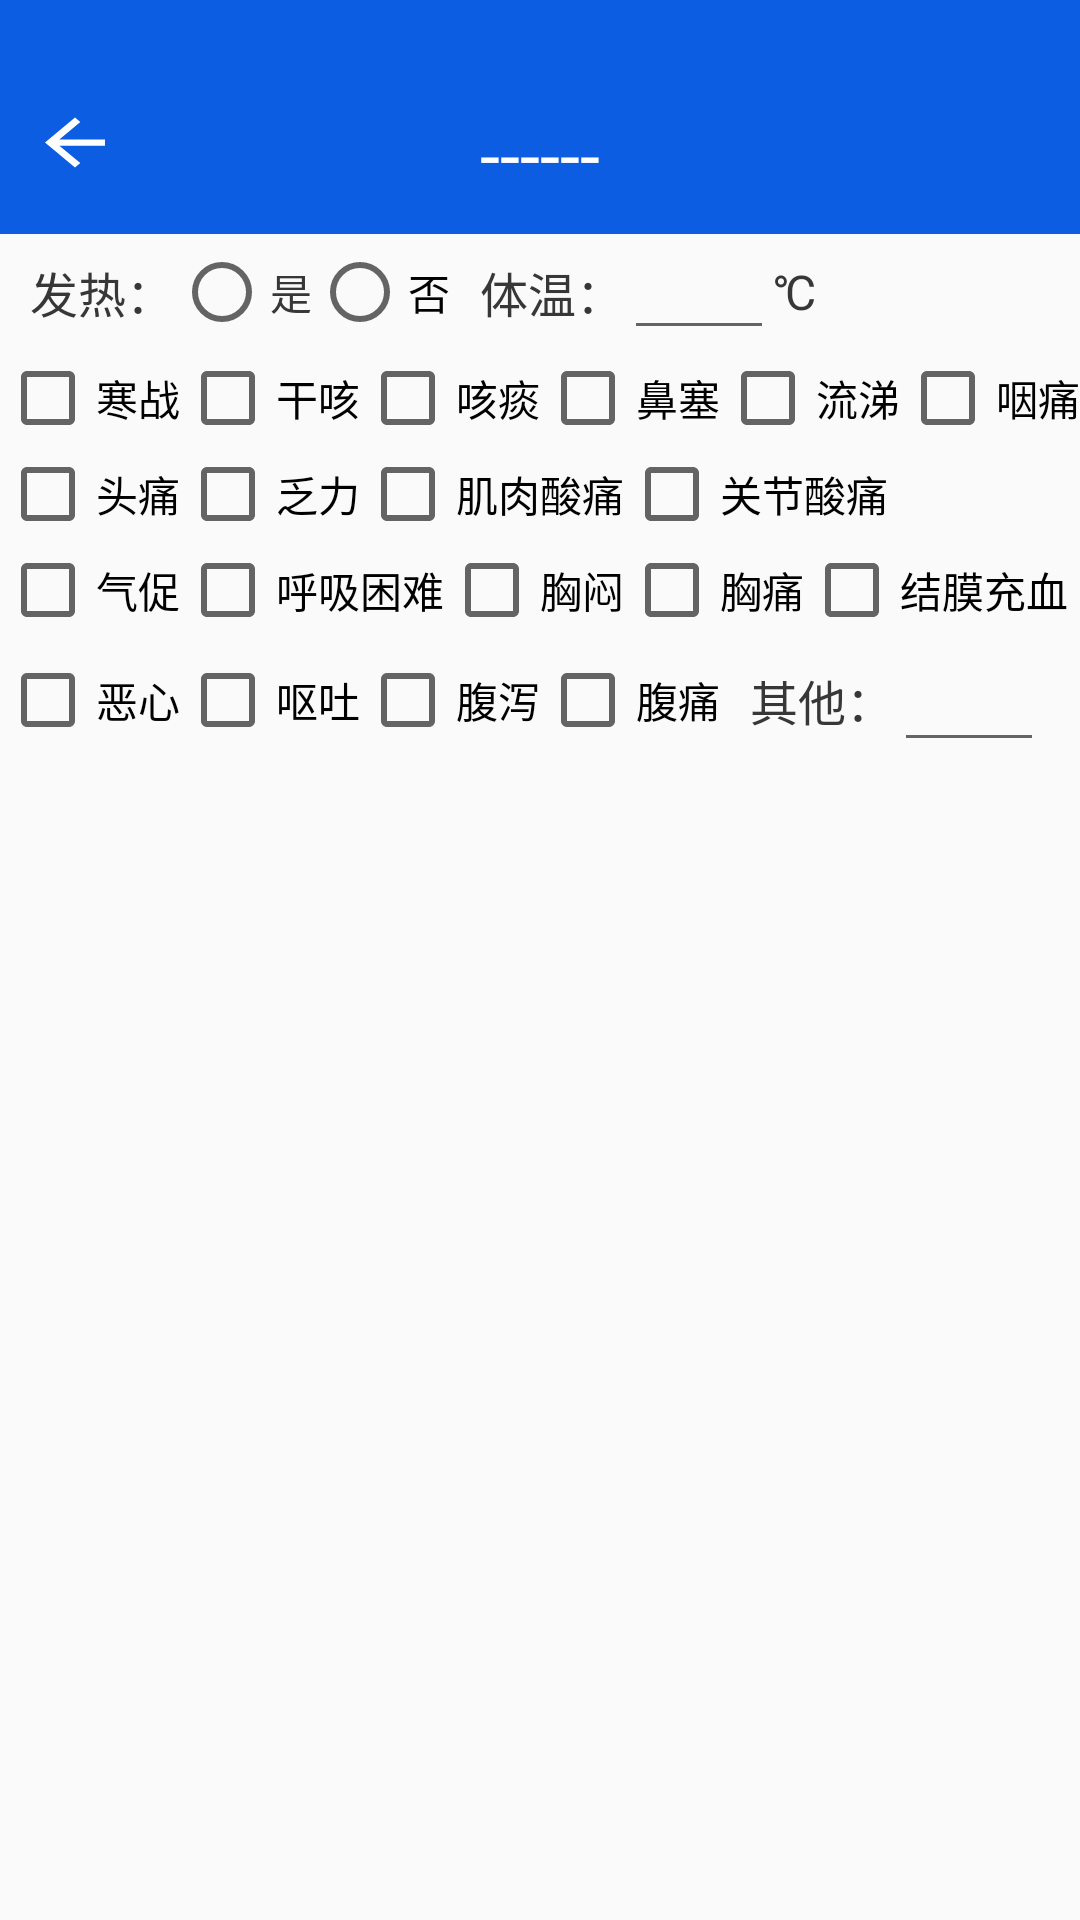

Named icons in this screenshot (1080 × 1920) and their centers, [x,y]:
arrow back: [75,142]
